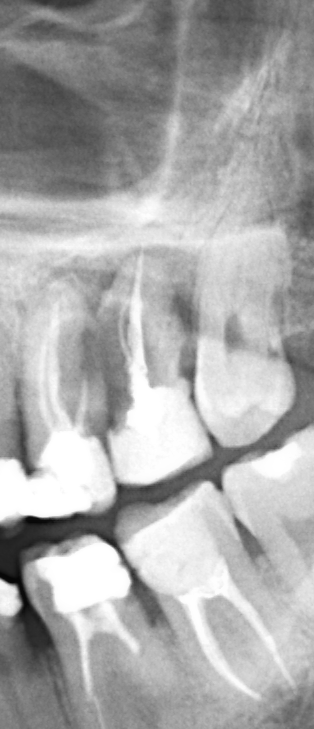fracture: (90, 698, 110, 729)
